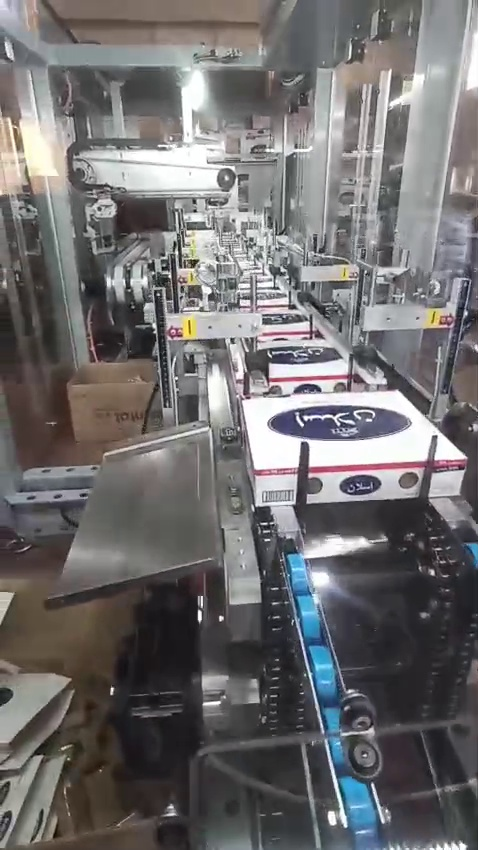savon: (0, 574, 156, 850), (60, 361, 158, 465), (68, 0, 260, 35), (0, 116, 24, 160), (10, 720, 36, 748), (180, 315, 197, 342), (25, 166, 42, 192), (424, 307, 443, 330), (332, 262, 350, 283), (51, 366, 70, 383), (346, 74, 368, 87), (184, 272, 197, 291)
